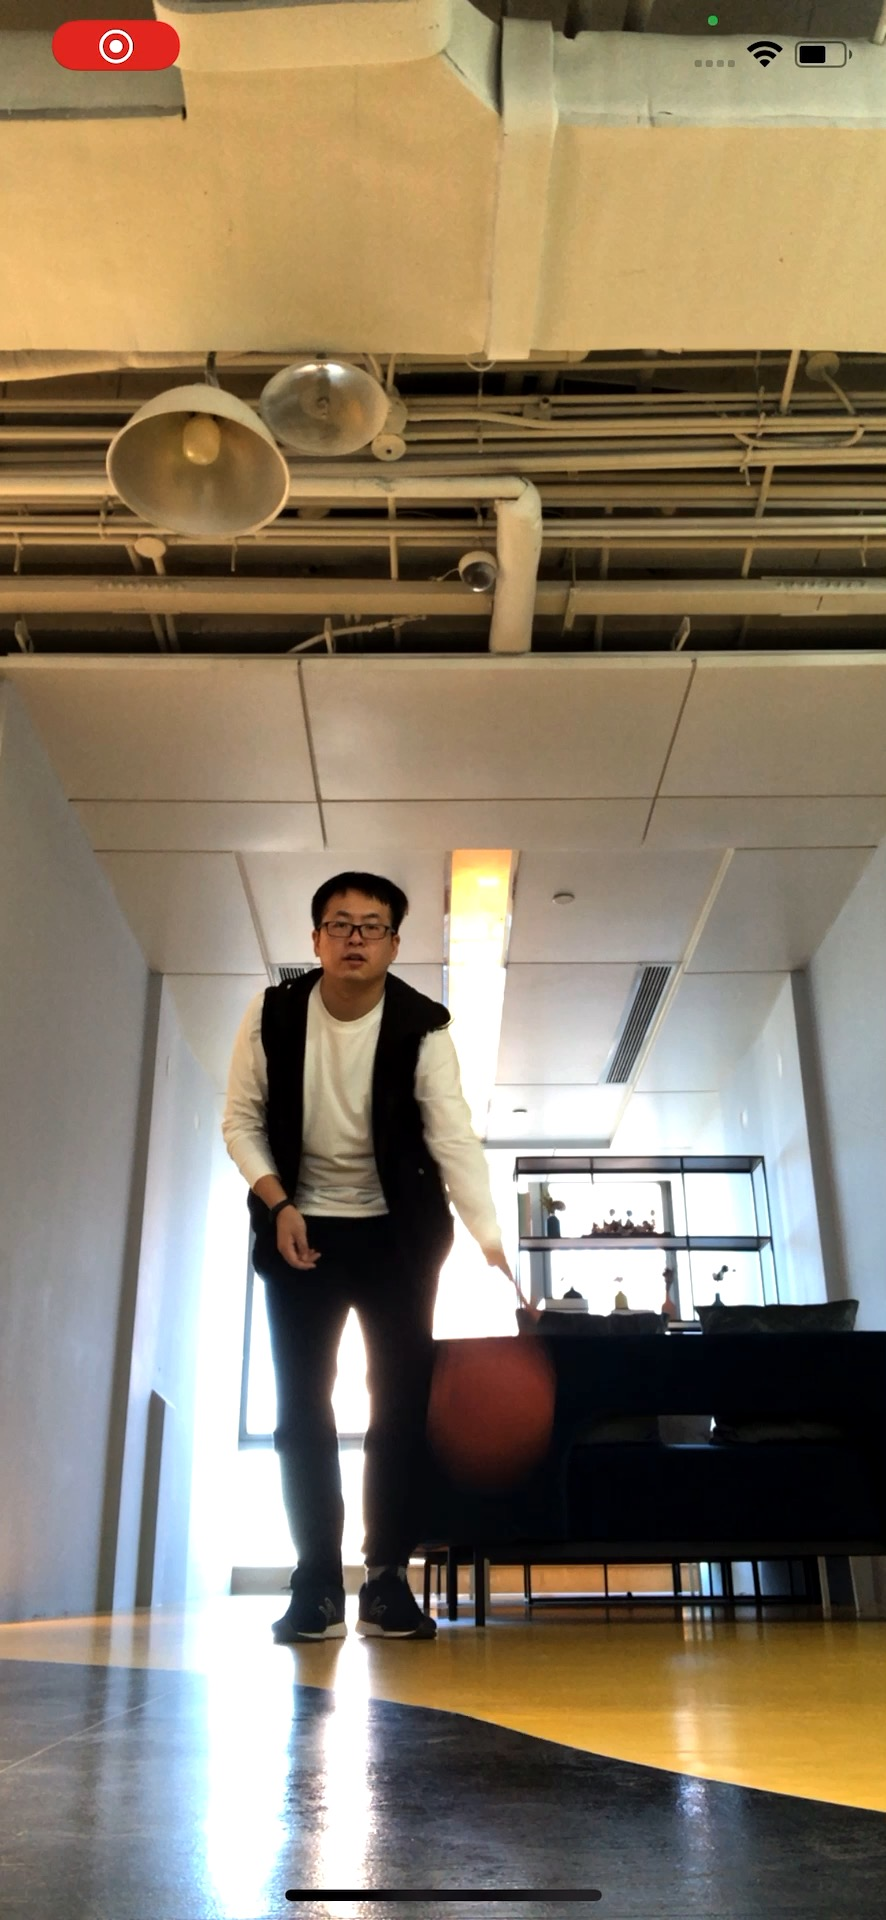ball: (433, 1343, 556, 1464)
